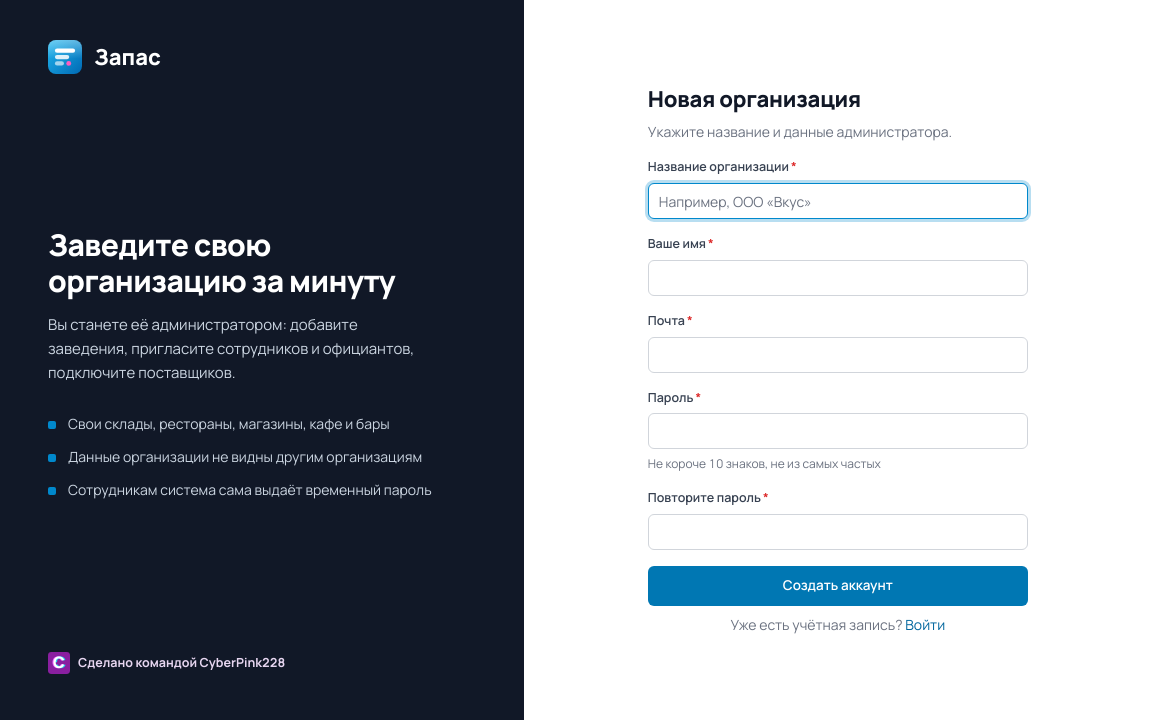
подтверждение почты › короткий код не уходит на сервер
This screenshot has width=1152, height=720.
In the field labelled "Название организации*": (838, 201) [648, 183, 1028, 219], type "ООО «Вкус»"
In the field labelled "Ваше имя*": (838, 278) [648, 260, 1028, 296], type "Орлова Наталья"
In the field labelled "Почта*": (838, 355) [648, 337, 1028, 373], type "owner@vkus.example"
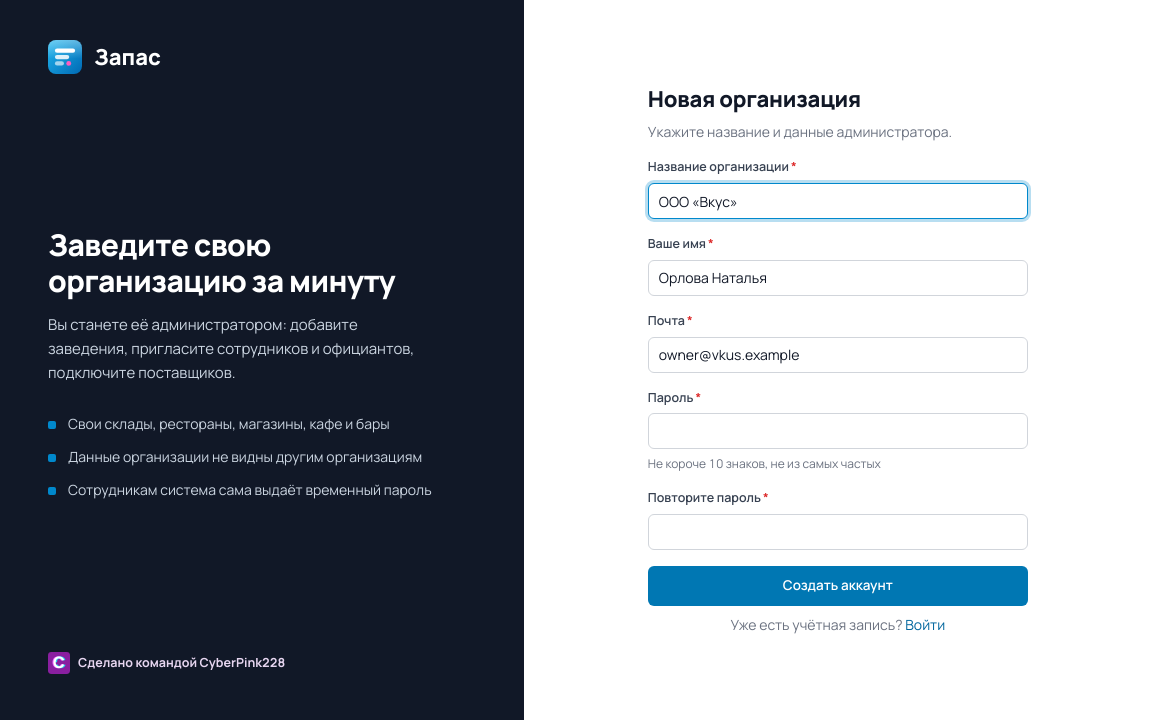
In the password field labelled "Пароль*": (838, 431) [648, 413, 1028, 449], type "Хорошая-длинная-фраза-91"
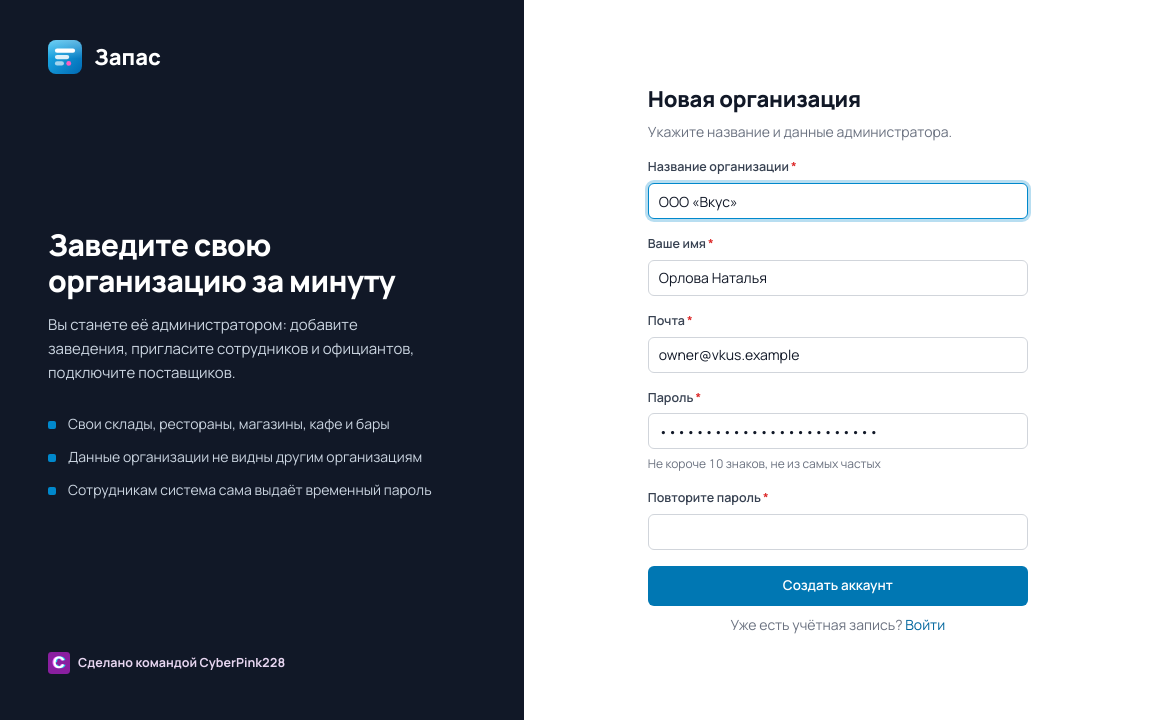
In the password field labelled "Повторите пароль*": (838, 532) [648, 514, 1028, 550], type "Хорошая-длинная-фраза-91"
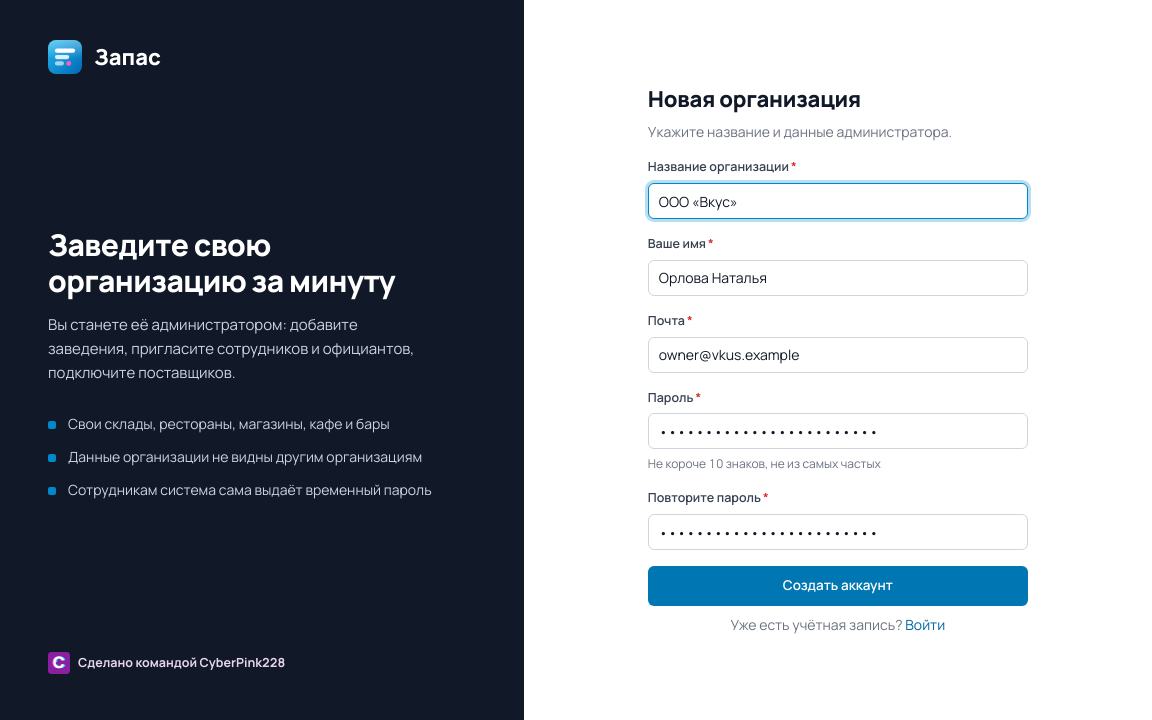
Click the button "Создать аккаунт": click(838, 586) [648, 566, 1028, 606]
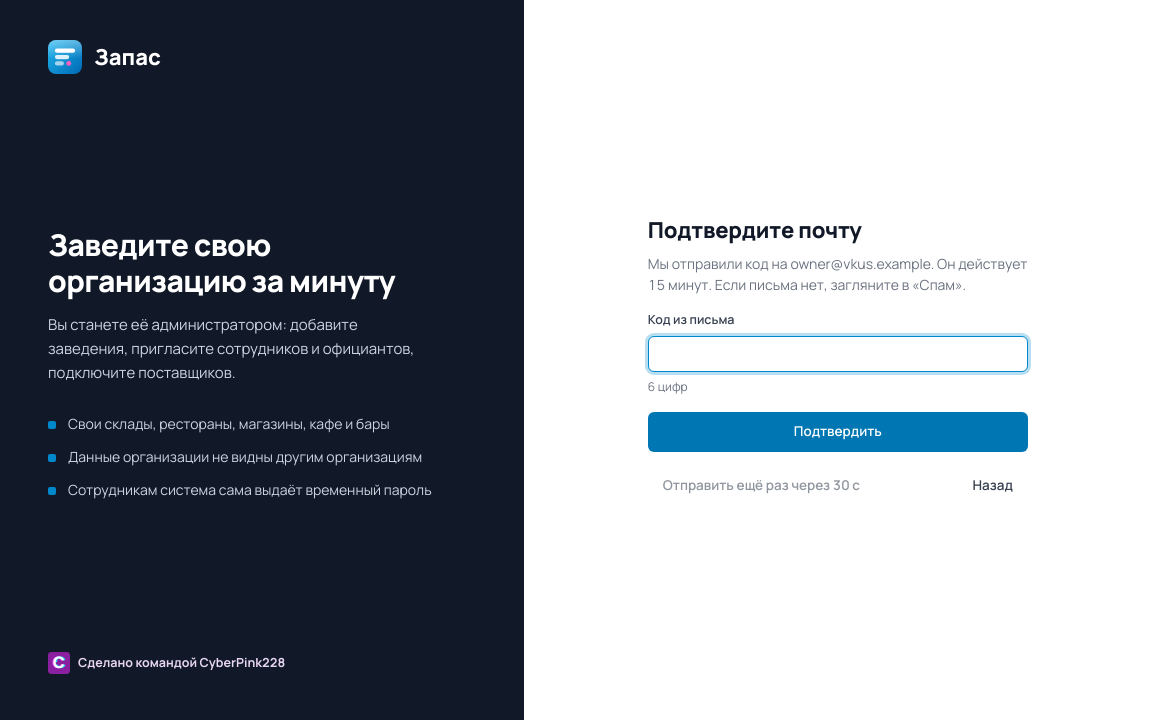
expect the heading "Подтвердите почту" is shown: met, box [648, 215, 862, 245]
In the field labelled "Код из письма": (838, 354) [648, 336, 1028, 372], type "123"
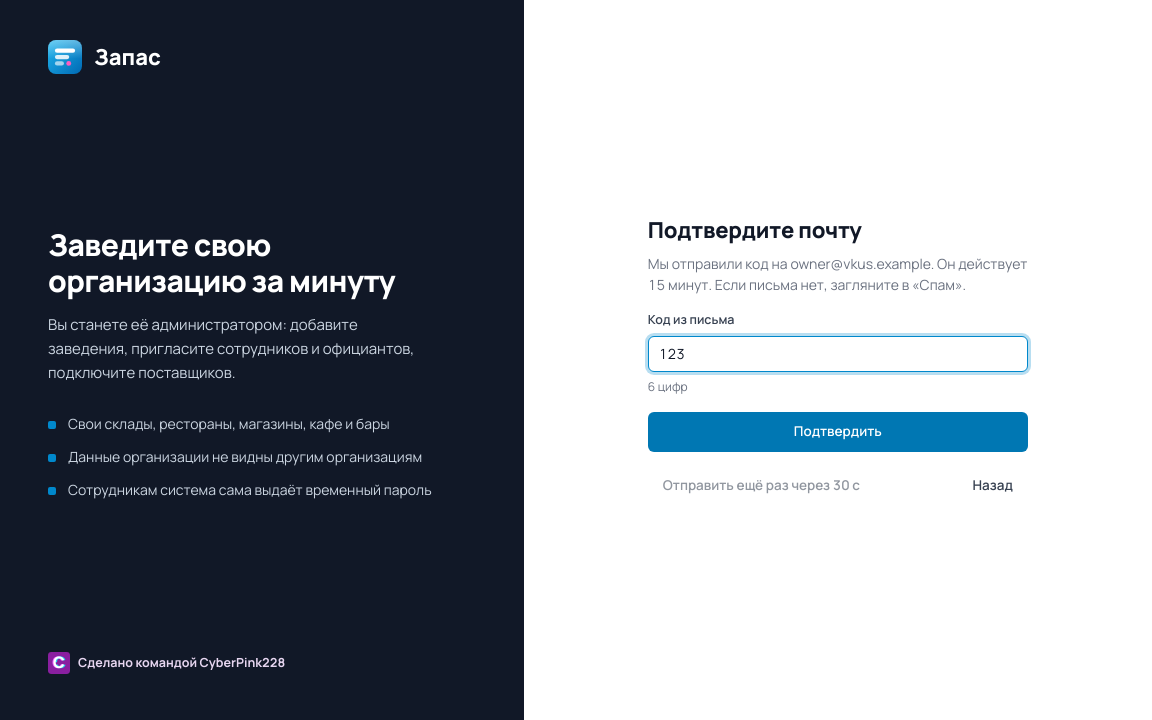
Click the button "Подтвердить": click(838, 432) [648, 412, 1028, 452]
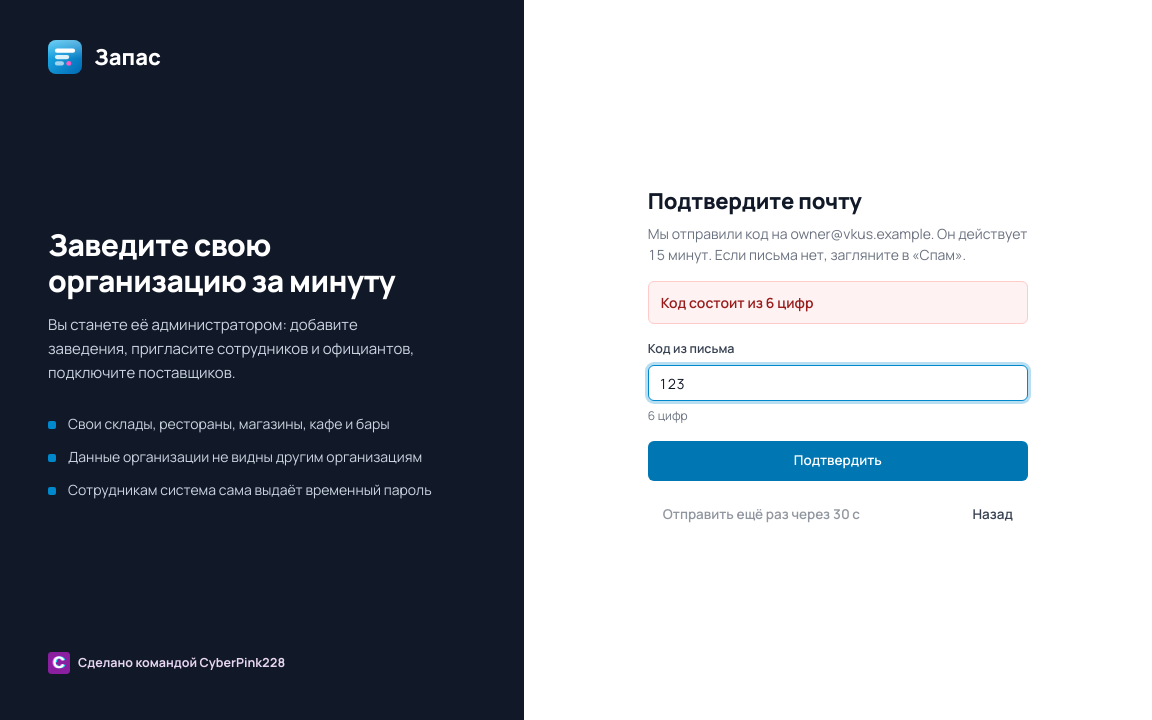
expect the text "Код состоит из 6 цифр" is shown: met, box [648, 281, 1028, 324]
